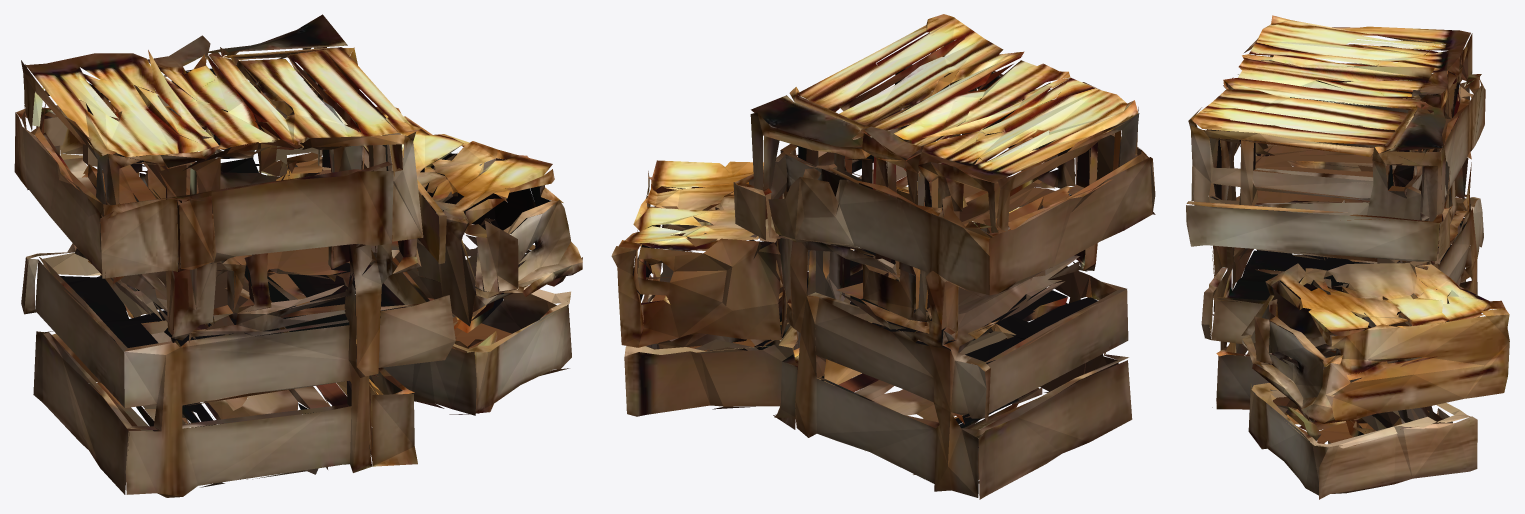
The model's file is wooden-crate-stack.glb.
3 views of the same model, side by side, from view 1: azimuth 30°, elevation 25°; view 2: azimuth 150°, elevation 25°; view 3: azimuth 270°, elevation 25° (orthographic). The views are drawn at different scales.
Visible parts, largest first — view 1: tmp2s06tcjm.ply; view 2: tmp2s06tcjm.ply; view 3: tmp2s06tcjm.ply.
Boxes of the visible parts, x1,y1,x2,y2 form: tmp2s06tcjm.ply: [14, 14, 582, 497]; tmp2s06tcjm.ply: [611, 14, 1155, 499]; tmp2s06tcjm.ply: [1186, 15, 1509, 499].
Size of the model in its own units: 3 by 2 by 2.
1 material, 1 textured.
